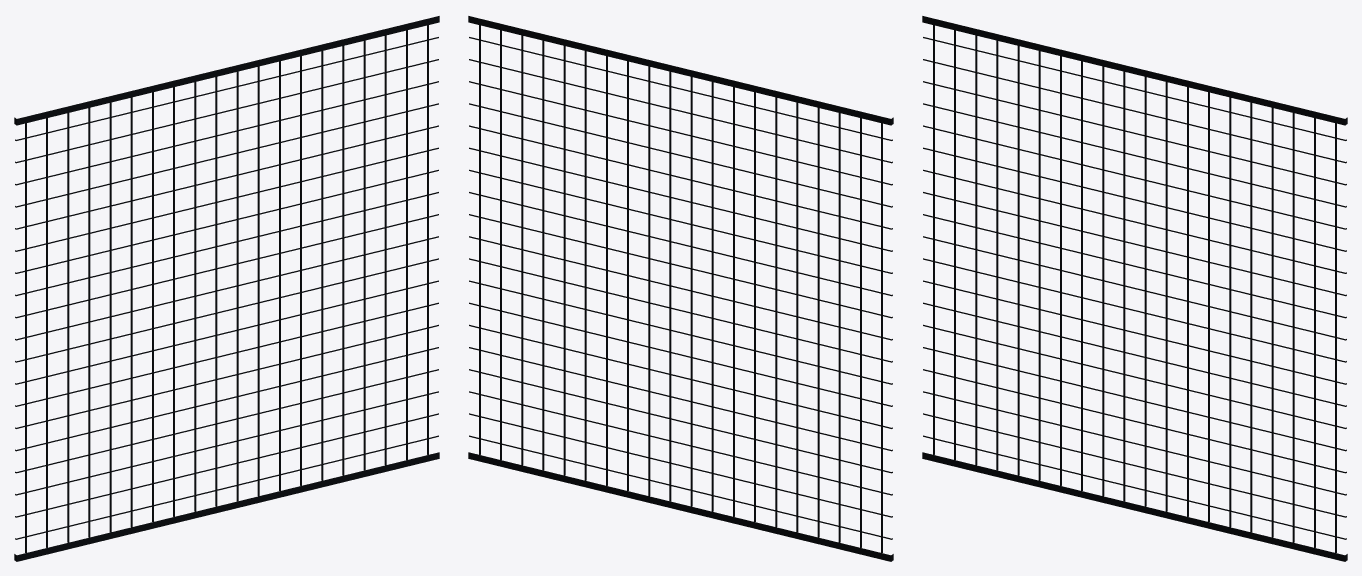
File: v1_net.glb
3 renders of one model, left to right at view 1: azimuth 30°, elevation 25°; view 2: azimuth 150°, elevation 25°; view 3: azimuth 330°, elevation 25°, orthographic.
Visible parts, largest first — view 1: Ball_Net_Cord; view 2: Ball_Net_Cord; view 3: Ball_Net_Cord.
Part boxes in pixels (x1,y1,x2,y2): Ball_Net_Cord: [14, 16, 439, 561]; Ball_Net_Cord: [468, 16, 893, 561]; Ball_Net_Cord: [922, 16, 1347, 561].
Size of the model in its own units: 2 by 2 by 0.02.
Materials: 1 (1 with a texture image).
